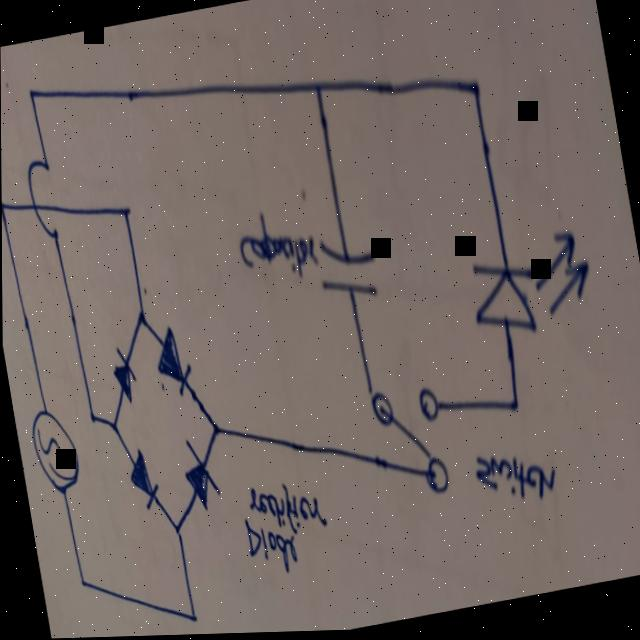capacitor: (313, 235, 382, 310)
crossover: (24, 160, 63, 245)
diode: (464, 230, 599, 349), (178, 439, 223, 516), (151, 326, 194, 403), (126, 451, 161, 515), (110, 348, 139, 409)
junction: (466, 75, 486, 109), (504, 392, 524, 425), (309, 73, 328, 107), (118, 201, 134, 228), (208, 419, 223, 443), (135, 309, 148, 332), (187, 606, 199, 630), (171, 519, 184, 541), (109, 417, 120, 437), (27, 88, 38, 106), (88, 409, 97, 427), (79, 574, 87, 591), (1, 198, 7, 216)
source: (26, 403, 84, 502)
switch: (367, 382, 454, 507)
text: (237, 474, 335, 582), (232, 201, 323, 304), (471, 445, 561, 523)
